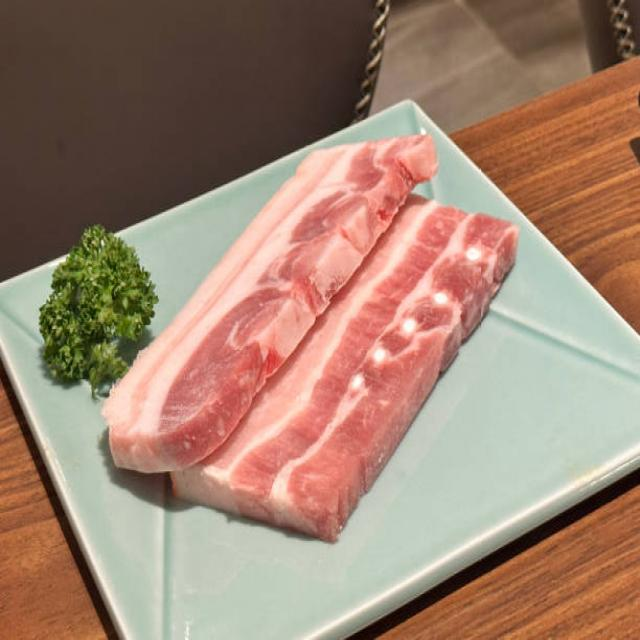broccoli: (36, 223, 155, 379)
pork belly: (247, 316, 402, 536), (357, 194, 512, 330), (269, 138, 425, 246), (110, 355, 241, 474), (201, 238, 317, 358)
